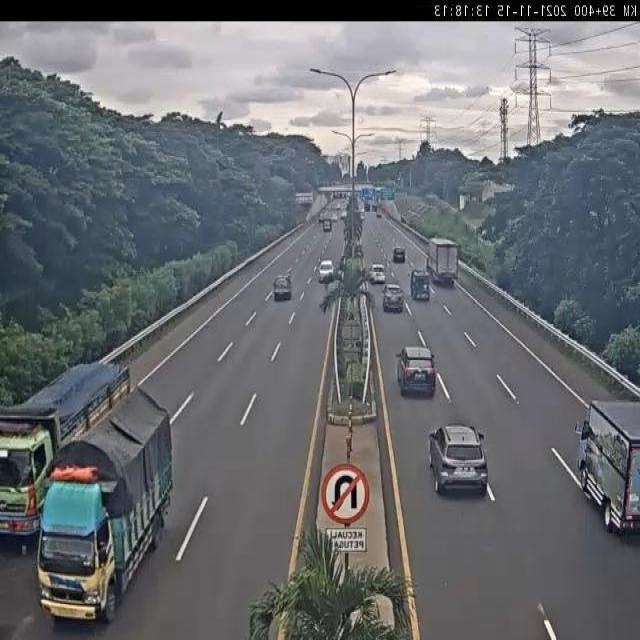Car: (432, 425, 493, 506), (396, 345, 436, 398), (410, 269, 431, 301), (382, 283, 404, 312), (273, 275, 292, 301), (369, 263, 386, 284), (318, 260, 334, 282), (393, 247, 405, 263), (354, 244, 364, 258), (322, 219, 332, 232), (348, 193, 358, 206), (340, 210, 348, 222), (338, 202, 347, 212), (330, 213, 339, 222), (333, 192, 343, 200), (359, 212, 365, 221), (376, 210, 382, 218), (364, 203, 370, 211), (373, 204, 378, 212), (318, 217, 322, 225)
Truck: (36, 390, 174, 622), (0, 353, 138, 541), (572, 374, 640, 530), (426, 237, 458, 286)
